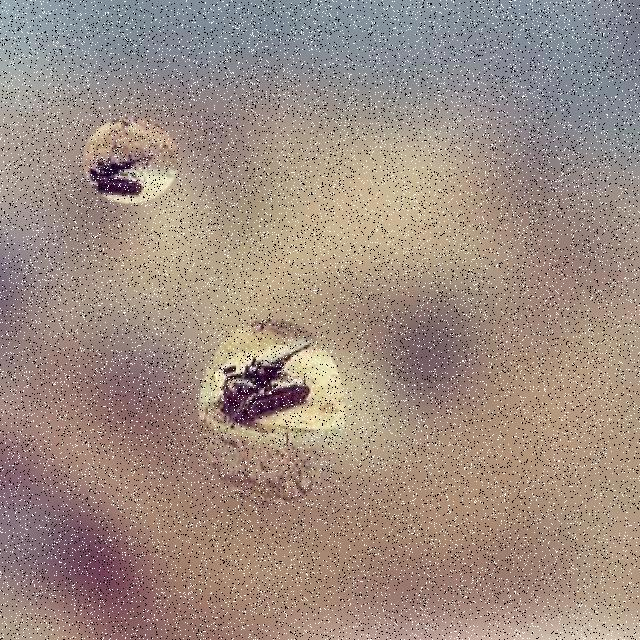MIL_MBT: (220, 336, 316, 421), (88, 149, 160, 194)
